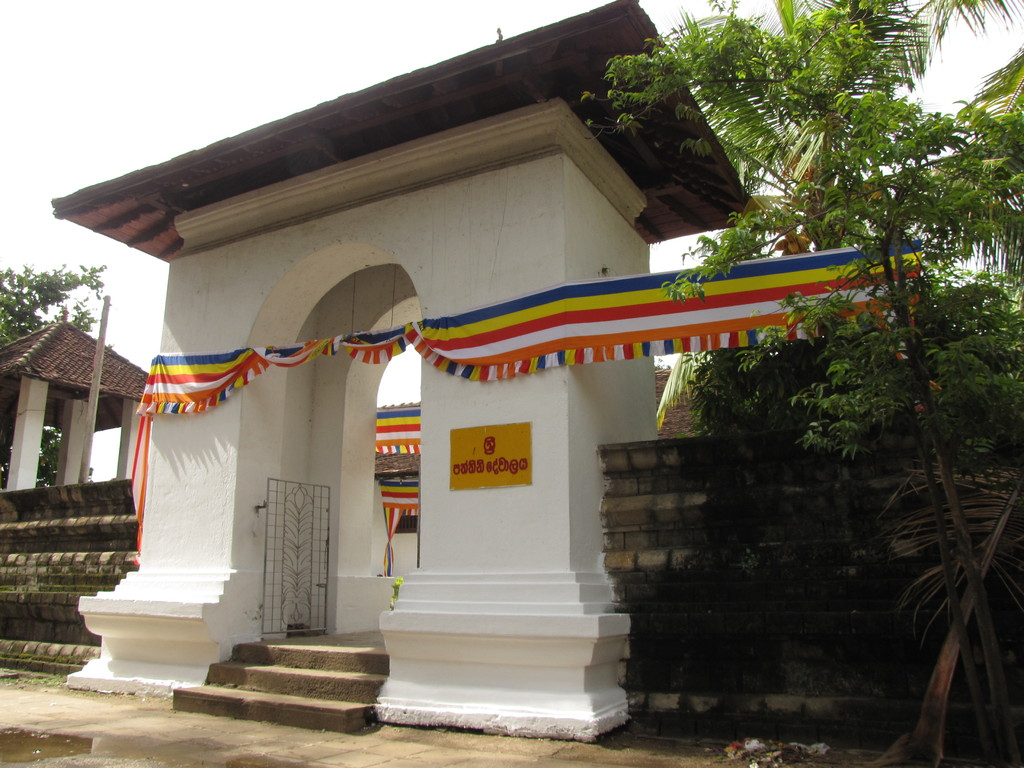Tree: (578, 0, 1024, 767), (0, 264, 107, 489)
